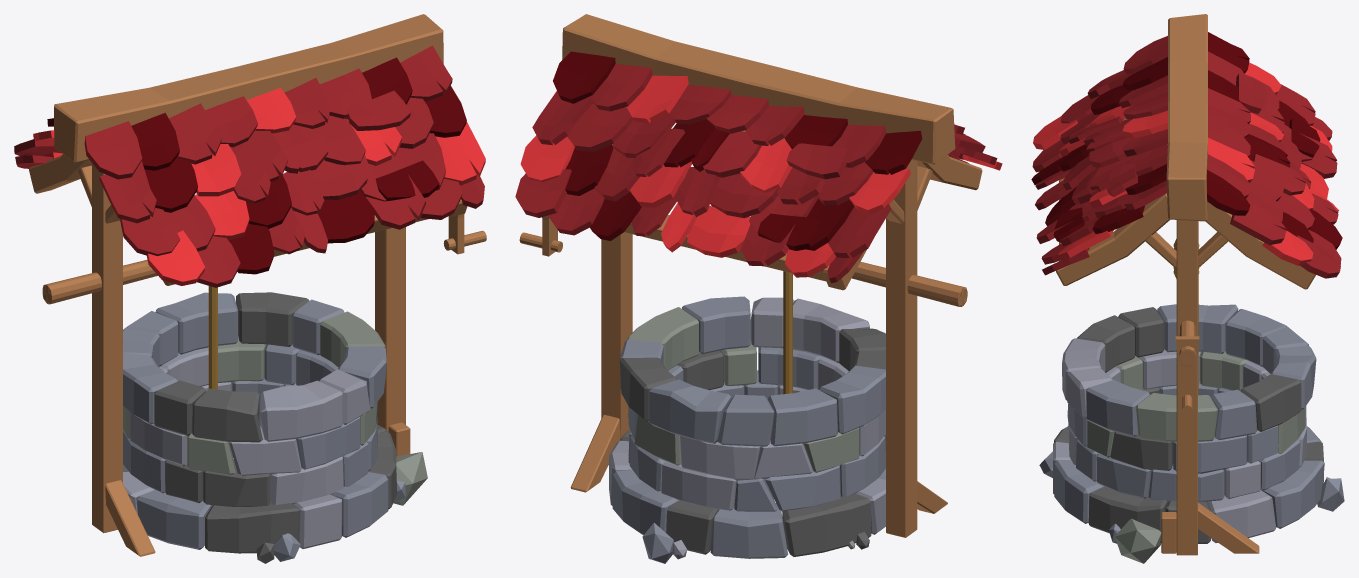
The model's file is Well.fbx.
3 renders of one model, left to right at view 1: azimuth 30°, elevation 25°; view 2: azimuth 150°, elevation 25°; view 3: azimuth 270°, elevation 25°, orthographic. The views are drawn at different scales.
Visible parts, largest first — view 1: Plane.023, Cube.005, Cube.003, Cube.002, Cube, Cube.001, Cube.006, Plane.001, Icosphere.014, Cylinder.002; view 2: Plane.001, Cube.005, Cube.003, Cube, Cube.002, Cube.001, Cube.006, Cylinder.002, Plane.023, Icosphere.001, Cube.004; view 3: Cube.005, Plane.001, Cube.003, Plane.023, Cube.002, Cube, Cube.001, Icosphere.014, Cube.007, Icosphere.001, Cube.006.
Boxes of the visible parts, x1,y1,x2,y2 form: Plane.023: [84, 45, 485, 287]; Cube.005: [29, 14, 467, 556]; Cube.003: [123, 292, 386, 442]; Cube.002: [123, 336, 378, 476]; Cube: [123, 414, 397, 553]; Cube.001: [123, 378, 378, 506]; Cube.006: [42, 259, 157, 304]; Plane.001: [14, 118, 62, 168]; Icosphere.014: [393, 452, 427, 505]; Cylinder.002: [208, 286, 217, 389]; Plane.001: [515, 51, 922, 283]; Cube.005: [543, 14, 982, 537]; Cube.003: [619, 296, 885, 446]; Cube: [609, 430, 885, 558]; Cube.002: [628, 340, 885, 480]; Cube.001: [628, 370, 885, 511]; Cube.006: [852, 262, 967, 306]; Cylinder.002: [783, 271, 792, 394]; Plane.023: [948, 124, 1002, 170]; Icosphere.001: [642, 523, 674, 563]; Cube.004: [624, 130, 826, 281]; Cube.005: [1056, 14, 1315, 555]; Plane.001: [1207, 32, 1342, 278]; Cube.003: [1062, 304, 1316, 441]; Plane.023: [1031, 36, 1167, 275]; Cube.002: [1067, 349, 1306, 473]; Cube: [1053, 426, 1324, 543]; Cube.001: [1068, 381, 1306, 501]; Icosphere.014: [1114, 518, 1161, 563]; Cube.007: [1175, 336, 1199, 406]; Icosphere.001: [1317, 478, 1344, 511]; Cube.006: [1179, 320, 1196, 367].
Bounding box in the file's own units: 2333 × 2282 × 1574.
